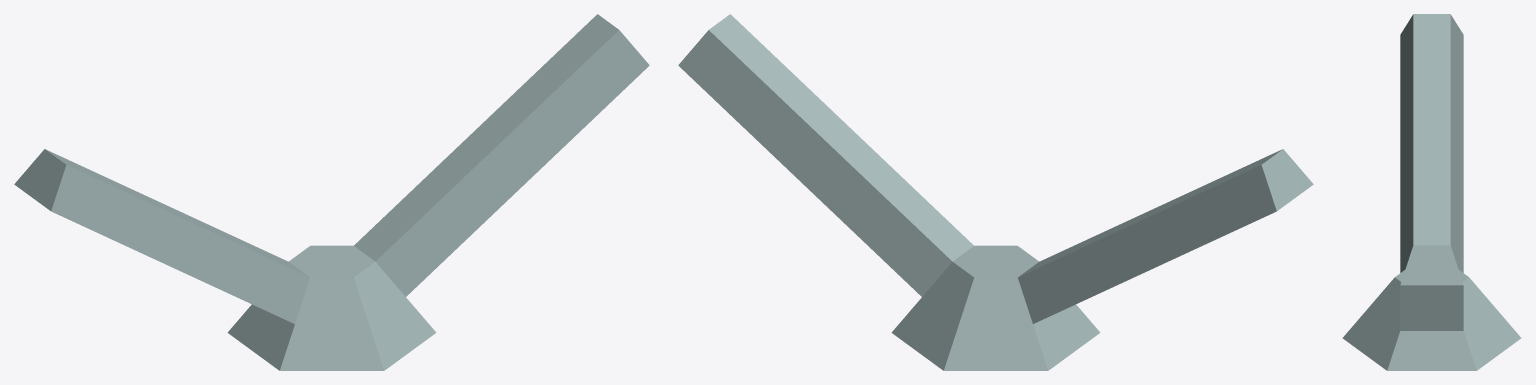
File: televisionAntenna.glb
The picture shows the model from 3 angles, left to right: view 1: azimuth 30°, elevation 25°; view 2: azimuth 150°, elevation 25°; view 3: azimuth 270°, elevation 25°; orthographic projection. The views are drawn at different scales.
Parts seen in each view (by area): view 1: televisionAntenna(Clone); view 2: televisionAntenna(Clone); view 3: televisionAntenna(Clone).
Part boxes in pixels (x1,y1,x2,y2): televisionAntenna(Clone): (14,14,649,370); televisionAntenna(Clone): (678,14,1313,370); televisionAntenna(Clone): (1342,14,1521,370).
Size of the model in its own units: 0.537 by 0.2086 by 0.1624.
1 material, 1 textured.
